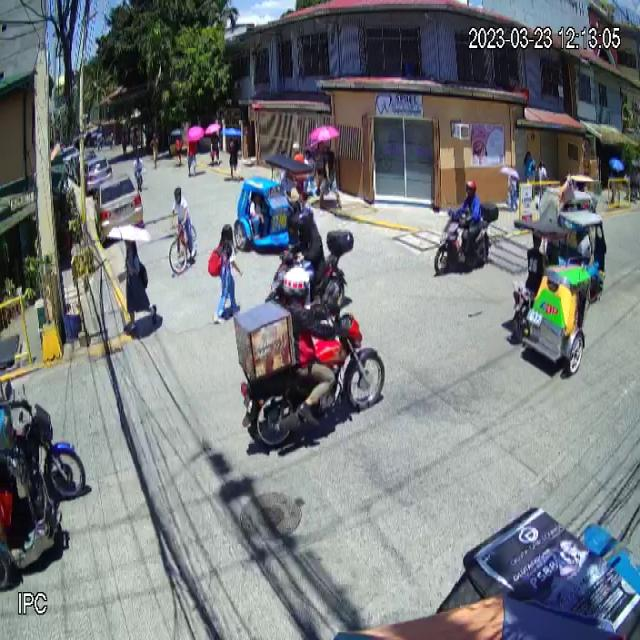Car: (93, 173, 144, 244)
Motorcycle: (234, 304, 386, 448), (434, 200, 499, 276)
Tricycle: (1, 332, 86, 590), (503, 216, 596, 374), (235, 153, 312, 250)
